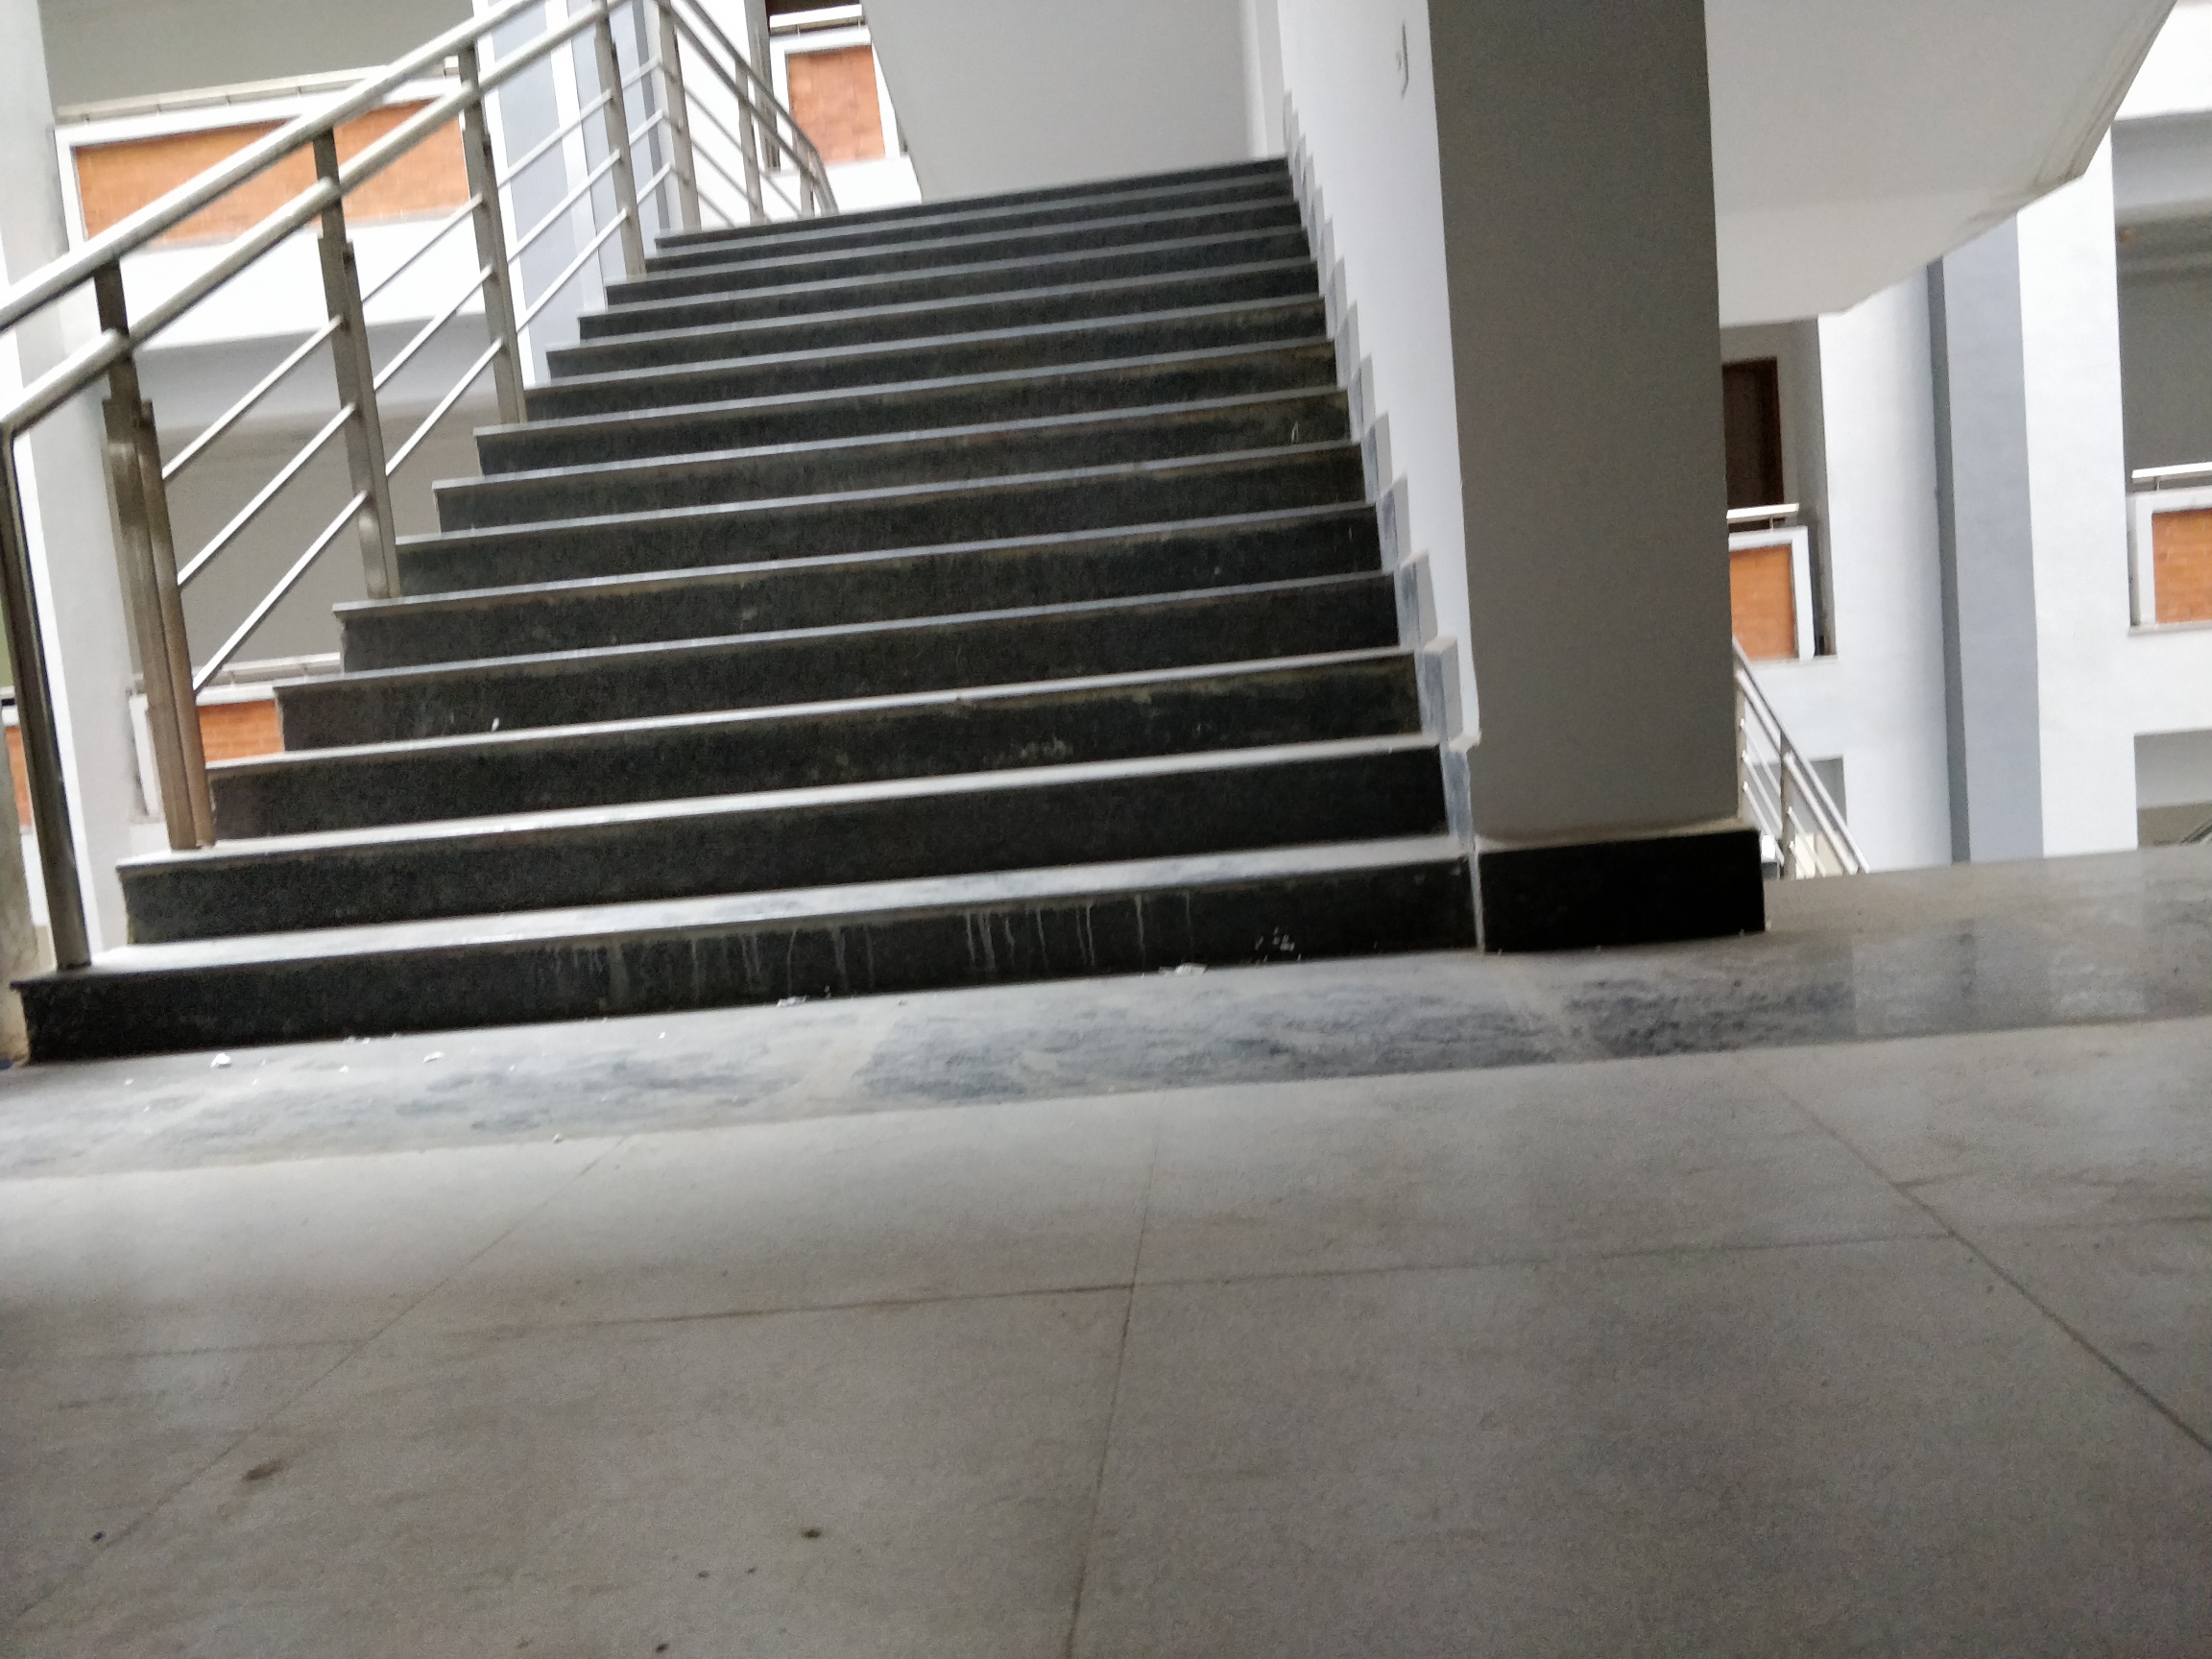stairs_up: (266, 150, 1296, 1047)
